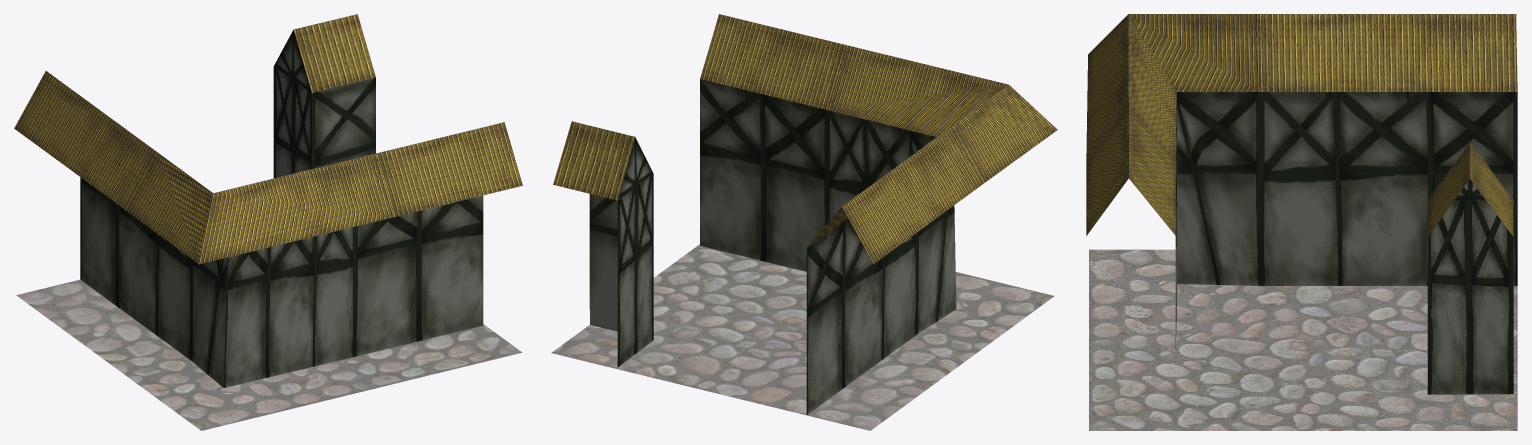
File: 3-5_Wall_Turn_v2.fbx
The picture shows the model from 3 angles, left to right: view 1: azimuth 30°, elevation 25°; view 2: azimuth 150°, elevation 25°; view 3: azimuth 270°, elevation 25°; orthographic projection. The views are drawn at different scales.
Parts seen in each view (by area): view 1: Wall_Turn_v2; view 2: Wall_Turn_v2; view 3: Wall_Turn_v2.
Boxes of the visible parts, left/top/right/bottom form: Wall_Turn_v2: left=14, top=14, right=522, bottom=430; Wall_Turn_v2: left=551, top=14, right=1057, bottom=430; Wall_Turn_v2: left=1086, top=14, right=1517, bottom=430.
Size of the model in its own units: 101 by 64.88 by 101.
Materials: 2 (2 with a texture image).
